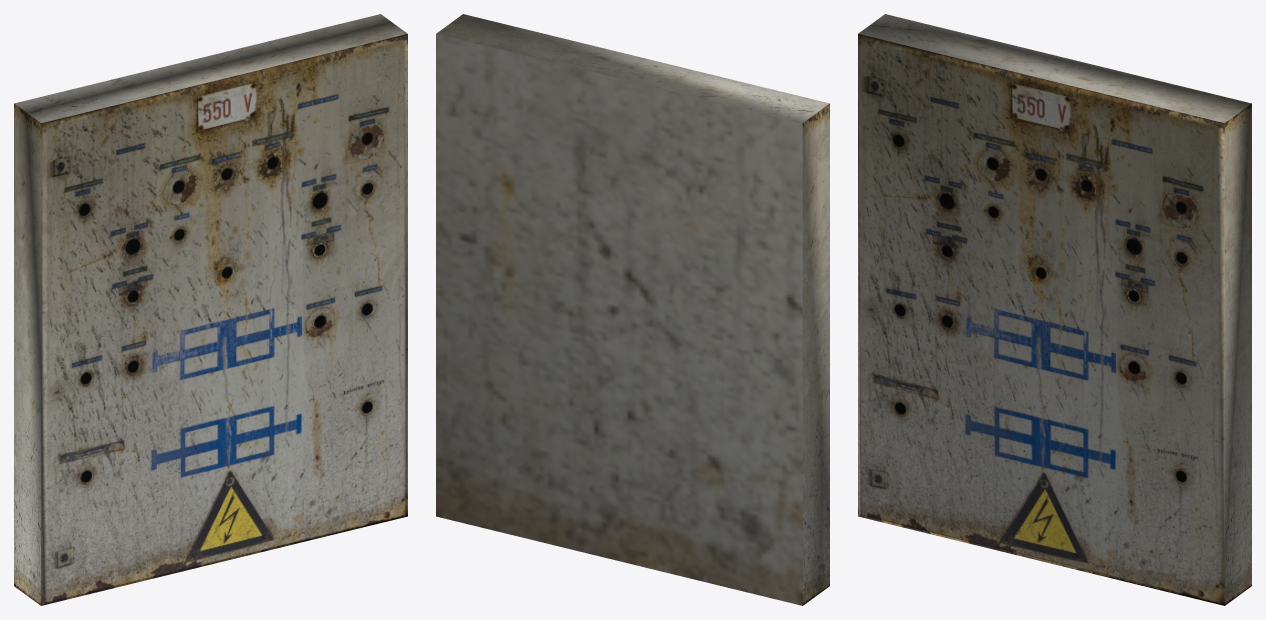
File: fuse_box_0005.fbx
The picture shows the model from 3 angles, left to right: view 1: azimuth 30°, elevation 25°; view 2: azimuth 150°, elevation 25°; view 3: azimuth 330°, elevation 25°; orthographic projection.
Parts seen in each view (by area): view 1: Mesh; view 2: Mesh; view 3: Mesh.
Boxes of the visible parts, x1=… form: Mesh: x1=14, y1=14, x2=407, y2=605; Mesh: x1=436, y1=14, x2=829, y2=605; Mesh: x1=858, y1=14, x2=1251, y2=605.
Size of the model in its own units: 66.2 by 83.27 by 8.92.
